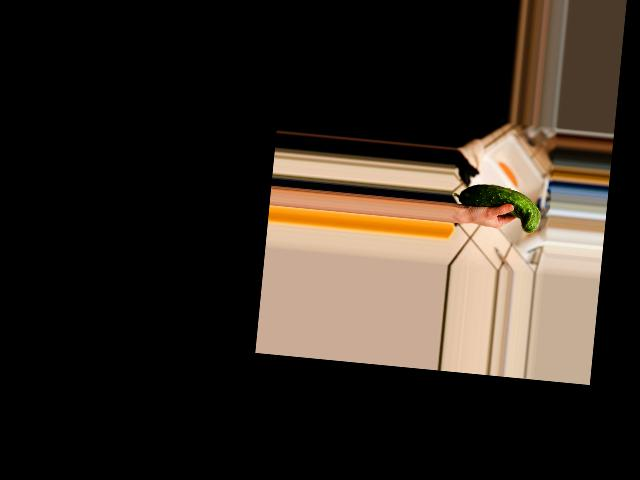cucumber: (450, 180, 543, 233)
